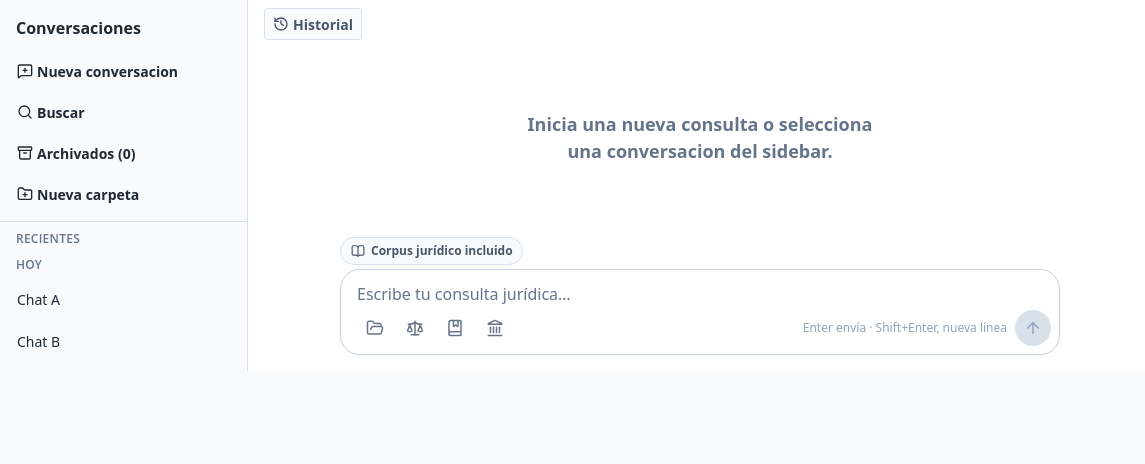
Test case: Asistente (chat) › F1: cambiar de chat mientras A genera no filtra tokens ni pierde el estado de A
Click the button "Chat A" at (124, 300), box x1=8 y1=279 x2=239 y2=321
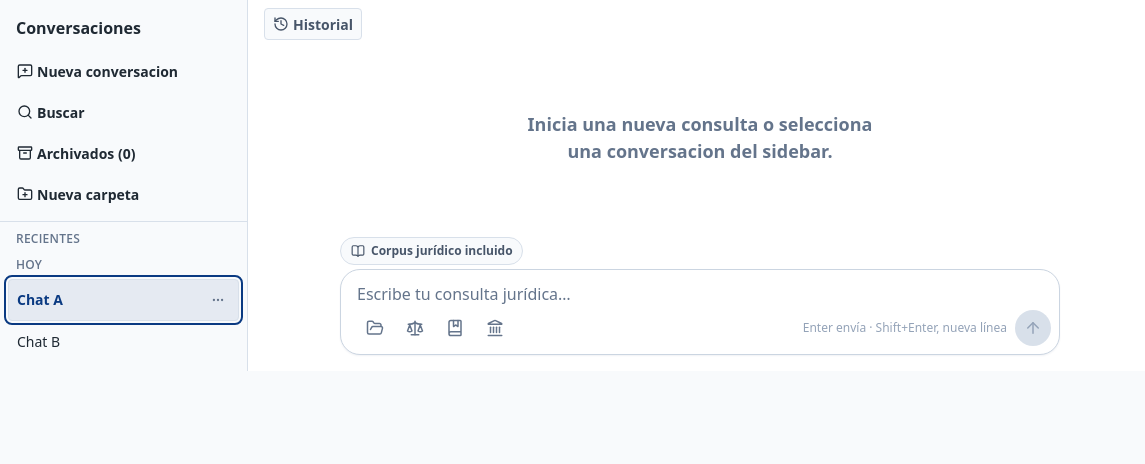
Type "consulta en A" into the text box labelled "consulta" at (704, 294), box x1=357 y1=282 x2=1051 y2=306
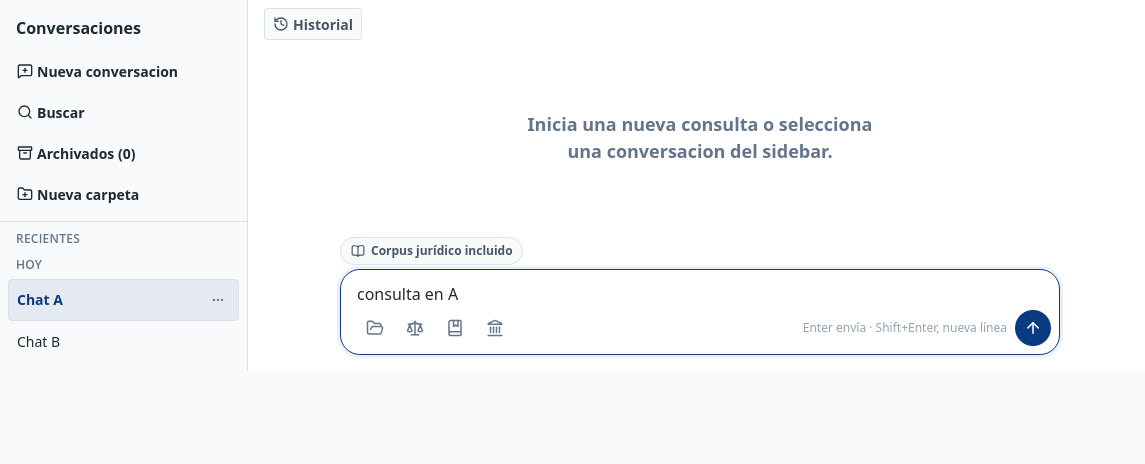
Click the button named "enviar" at (1033, 328), box x1=1015 y1=310 x2=1051 y2=346
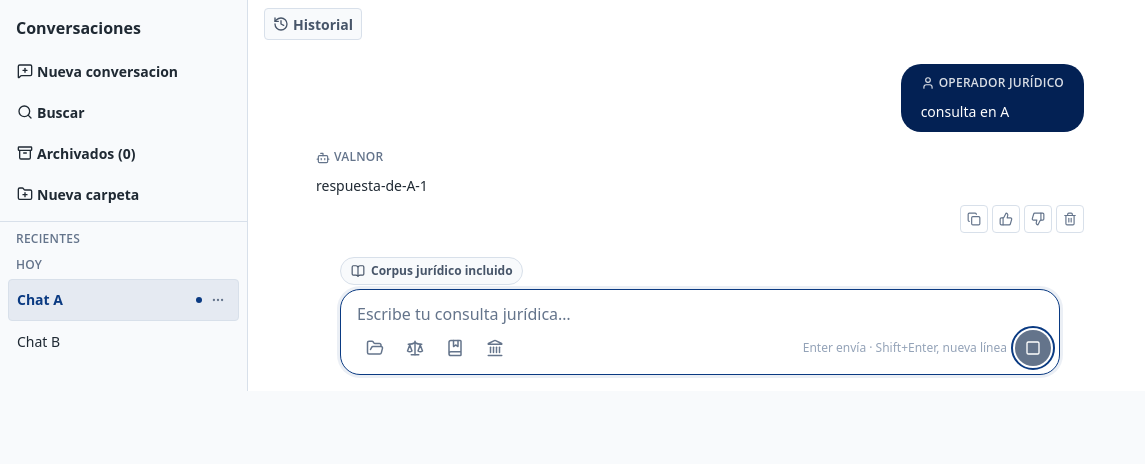
Now the text "respuesta-de-A-1" is shown, box x1=316 y1=176 x2=428 y2=195
Now the message named "generando respuesta" is shown, box x1=196 y1=297 x2=202 y2=303
Click the button "Chat B" at (124, 342), box x1=8 y1=321 x2=239 y2=363
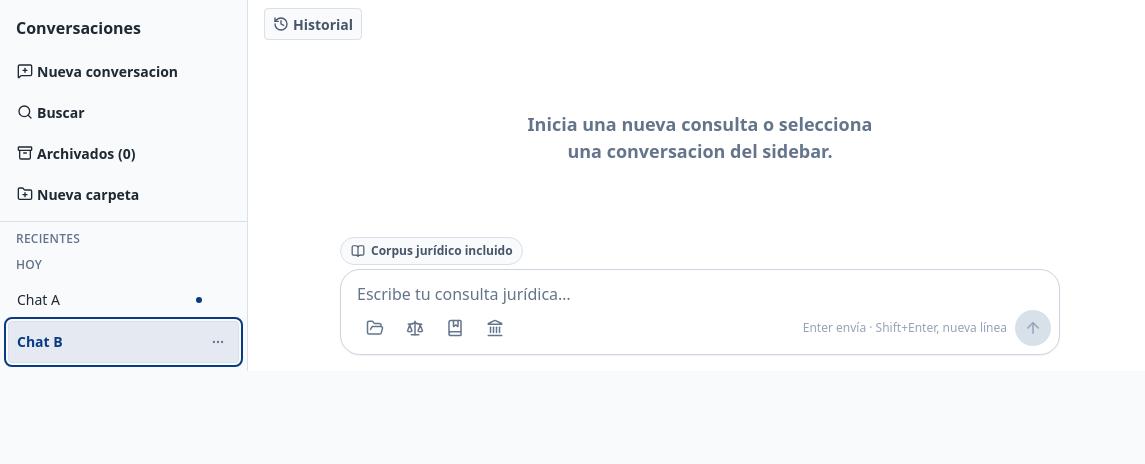
Expected: the text "respuesta-de-a-2" is not shown
Now the text "respuesta-de-A-1" is gone
Now the button named "enviar" is shown, box x1=1015 y1=310 x2=1051 y2=346
Click the button "Chat A" at (124, 300), box x1=8 y1=279 x2=239 y2=321
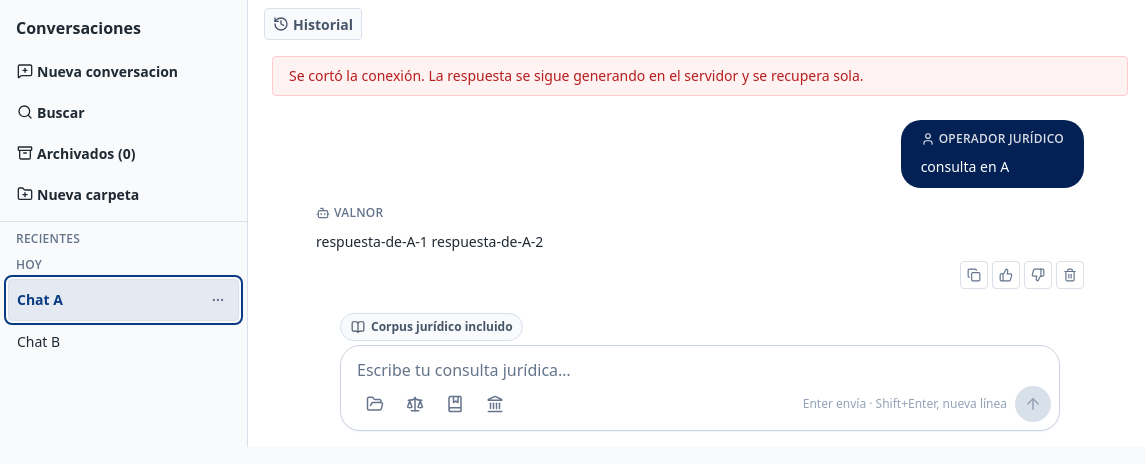
Expected: the button named "cancelar" is shown, x1=1015 y1=386 x2=1051 y2=422
Now the text "respuesta-de-A-1 respuesta-de-A-2" is shown, box x1=316 y1=232 x2=543 y2=251
